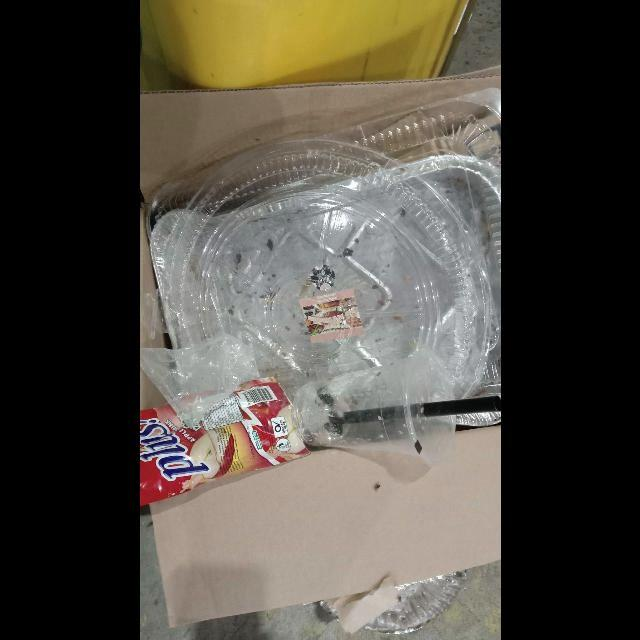cardboard: (151, 425, 501, 628), (139, 66, 501, 197)
food_wrapper: (139, 377, 308, 508)
plastic_container: (292, 348, 455, 466)
